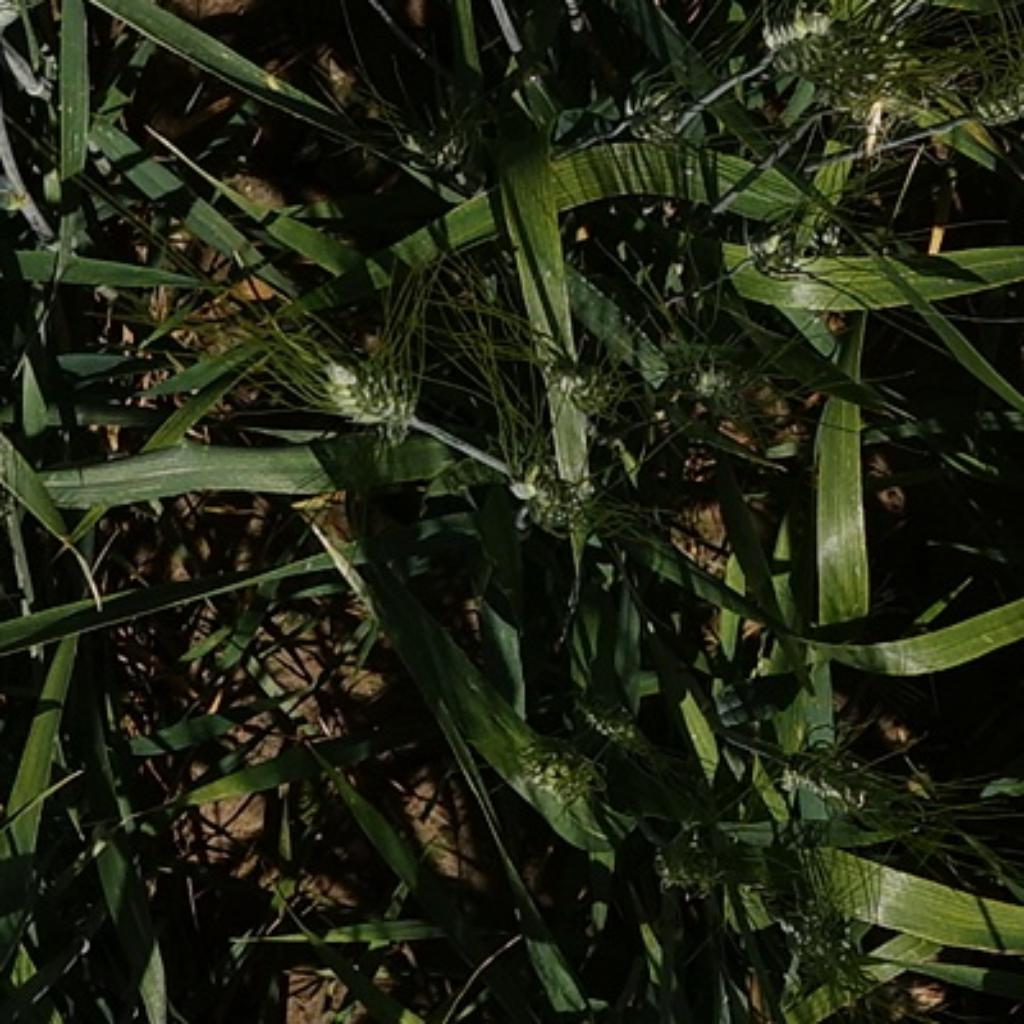0-0: (773, 716, 936, 839), (647, 322, 796, 450), (486, 714, 619, 842), (363, 64, 496, 192), (706, 207, 888, 294), (768, 852, 872, 998), (309, 325, 430, 430), (606, 64, 727, 161), (499, 432, 604, 532), (637, 814, 752, 903), (823, 52, 915, 160), (754, 2, 897, 66), (535, 335, 627, 412), (967, 53, 1024, 140)
